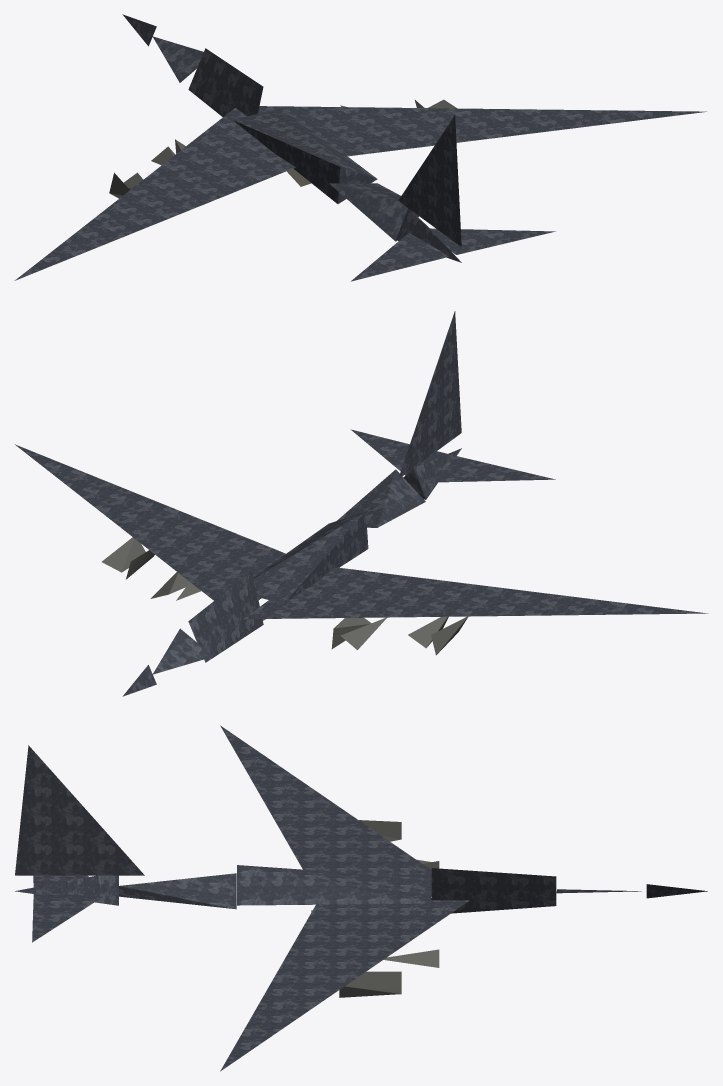
Rendered from air_e1_us_bomber_LOD2.glb.
3 renders of one model, top to bottom at view 1: azimuth 30°, elevation 25°; view 2: azimuth 150°, elevation 25°; view 3: azimuth 270°, elevation 25°, orthographic. The views are drawn at different scales.
Visible parts, largest first — view 1: air_e1_us_bomber_LOD2_body, air_e1_us_bomber_LOD2_gun; view 2: air_e1_us_bomber_LOD2_body, air_e1_us_bomber_LOD2_gun; view 3: air_e1_us_bomber_LOD2_body, air_e1_us_bomber_LOD2_gun.
Boxes of the visible parts, <box> form: air_e1_us_bomber_LOD2_body: <box>14,14,706,281</box>; air_e1_us_bomber_LOD2_gun: <box>109,99,457,198</box>; air_e1_us_bomber_LOD2_body: <box>15,311,708,696</box>; air_e1_us_bomber_LOD2_gun: <box>102,537,467,655</box>; air_e1_us_bomber_LOD2_body: <box>15,725,707,1071</box>; air_e1_us_bomber_LOD2_gun: <box>339,820,439,997</box>.
Size of the model in its own units: 56.74 by 13.53 by 48.07.
Materials: 3 (1 with a texture image).
